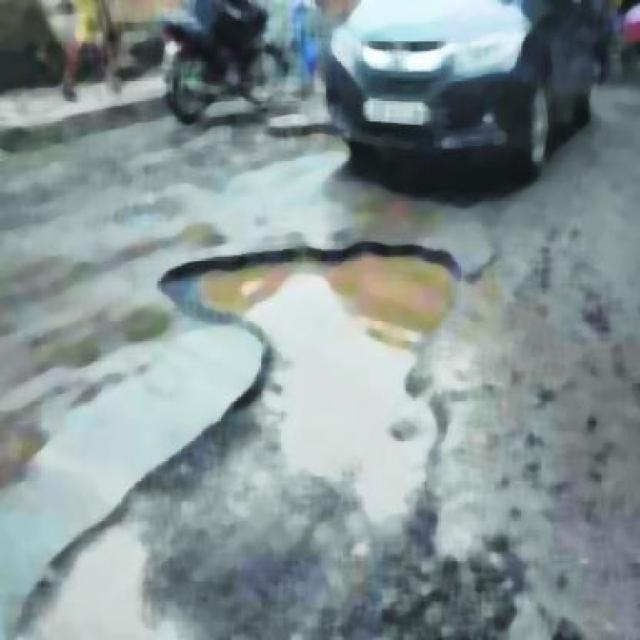Pothole: (177, 200, 443, 551)
